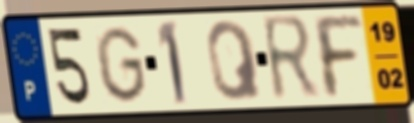1: (154, 19, 189, 107)
5: (45, 26, 93, 107)
F: (308, 13, 366, 102)
G: (92, 24, 149, 105)
Q: (204, 18, 265, 103)
R: (259, 12, 323, 106)
